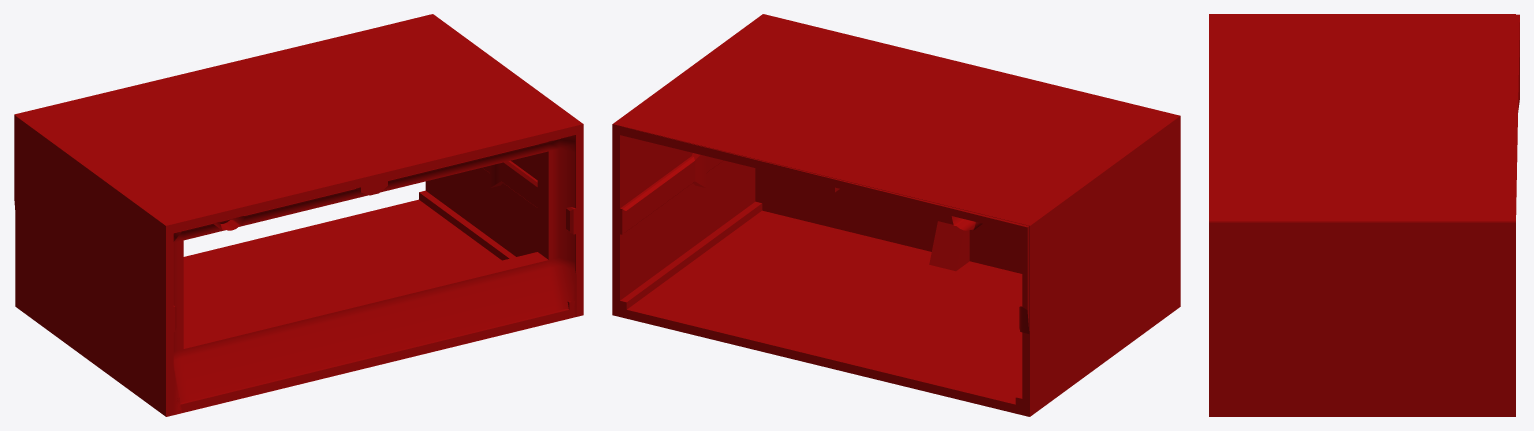
File: pasilloCerradoVentana.fbx
3 renders of one model, left to right at view 1: azimuth 30°, elevation 25°; view 2: azimuth 150°, elevation 25°; view 3: azimuth 270°, elevation 25°, orthographic.
Parts seen in each view (by area): view 1: pasted__PasilloComun, PasilloCerradoVentana1; view 2: pasted__PasilloComun, PasilloCerradoVentana1; view 3: pasted__PasilloComun, PasilloCerradoVentana1.
Part boxes in pixels (x1,y1,x2,y2): pasted__PasilloComun: [15, 14, 582, 416]; PasilloCerradoVentana1: [14, 14, 583, 416]; pasted__PasilloComun: [613, 14, 1180, 416]; PasilloCerradoVentana1: [612, 14, 1029, 416]; pasted__PasilloComun: [1209, 14, 1515, 221]; PasilloCerradoVentana1: [1209, 14, 1519, 416].
Size of the model in its own units: 1603 by 701 by 1013.
